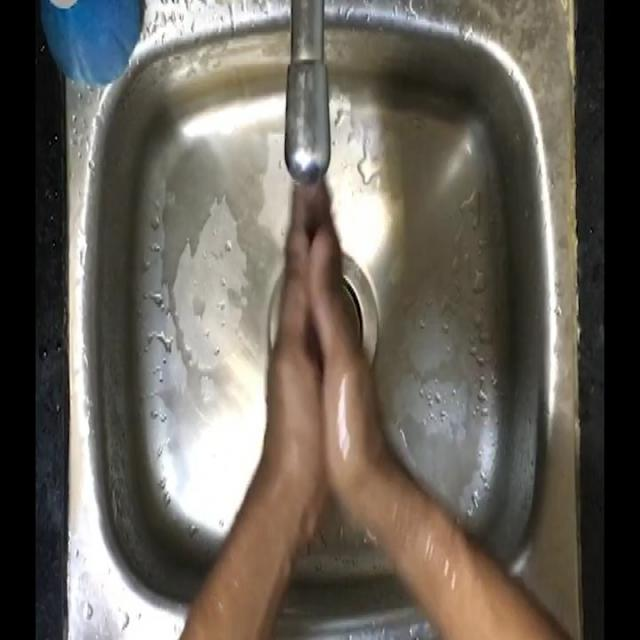step_1: (243, 143, 391, 472)
